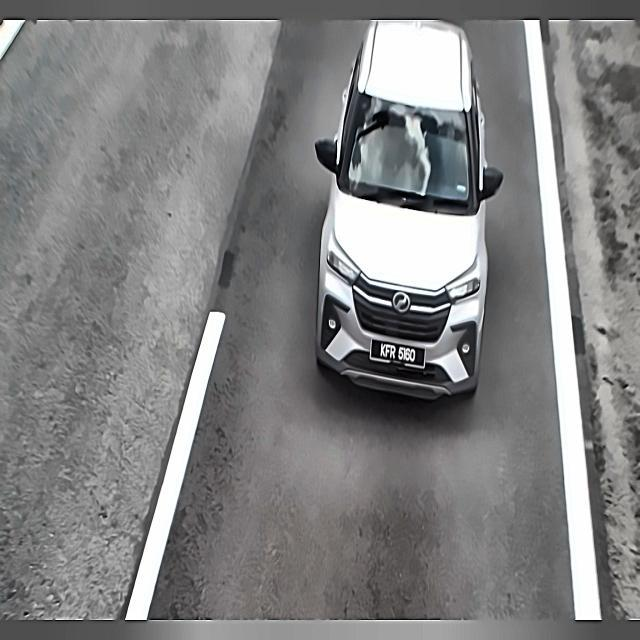car: (368, 334, 426, 375)
